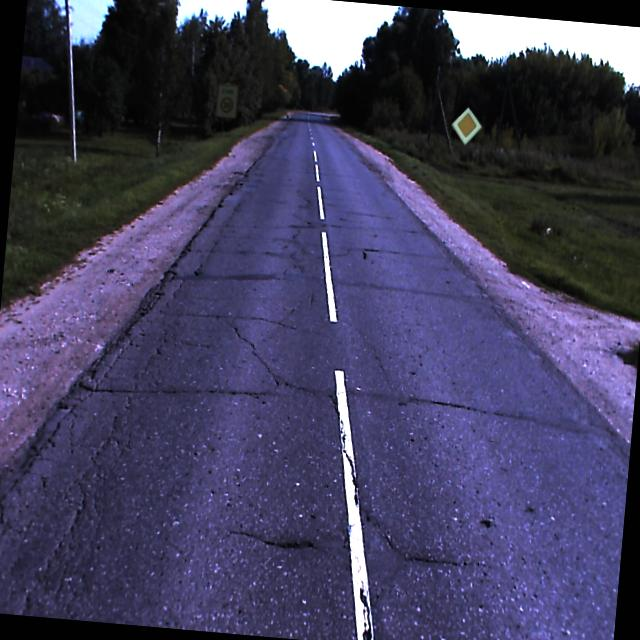road: (0, 110, 630, 640)
